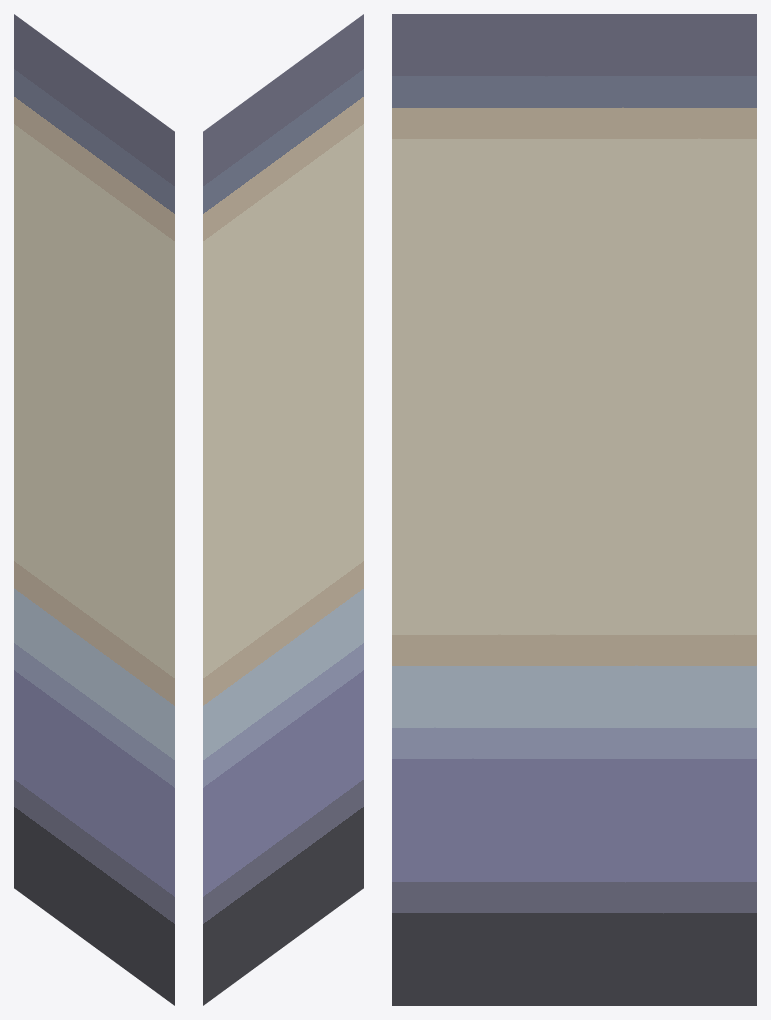
The picture shows the model from 3 angles, left to right: view 1: azimuth 30°, elevation 25°; view 2: azimuth 150°, elevation 25°; view 3: azimuth 270°, elevation 25°; orthographic projection. The views are drawn at different scales.
Size of the model in its own units: 0 by 3 by 1.
1 material, 1 textured.
